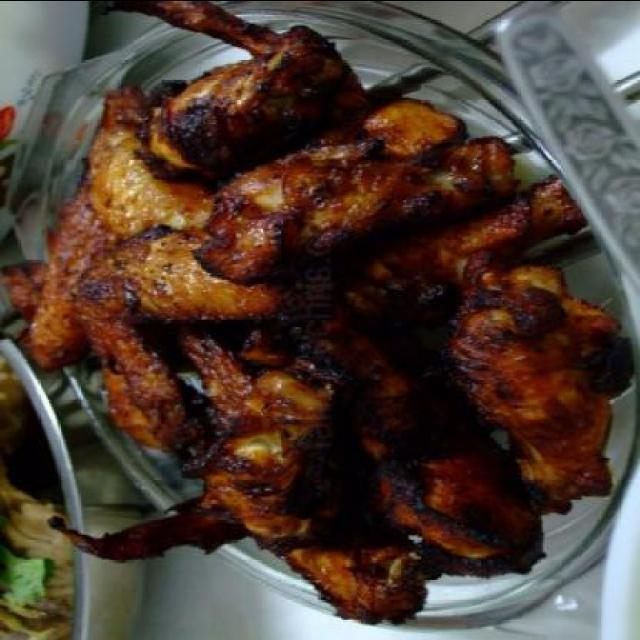Deep fried chicken wing: (37, 42, 575, 580)
